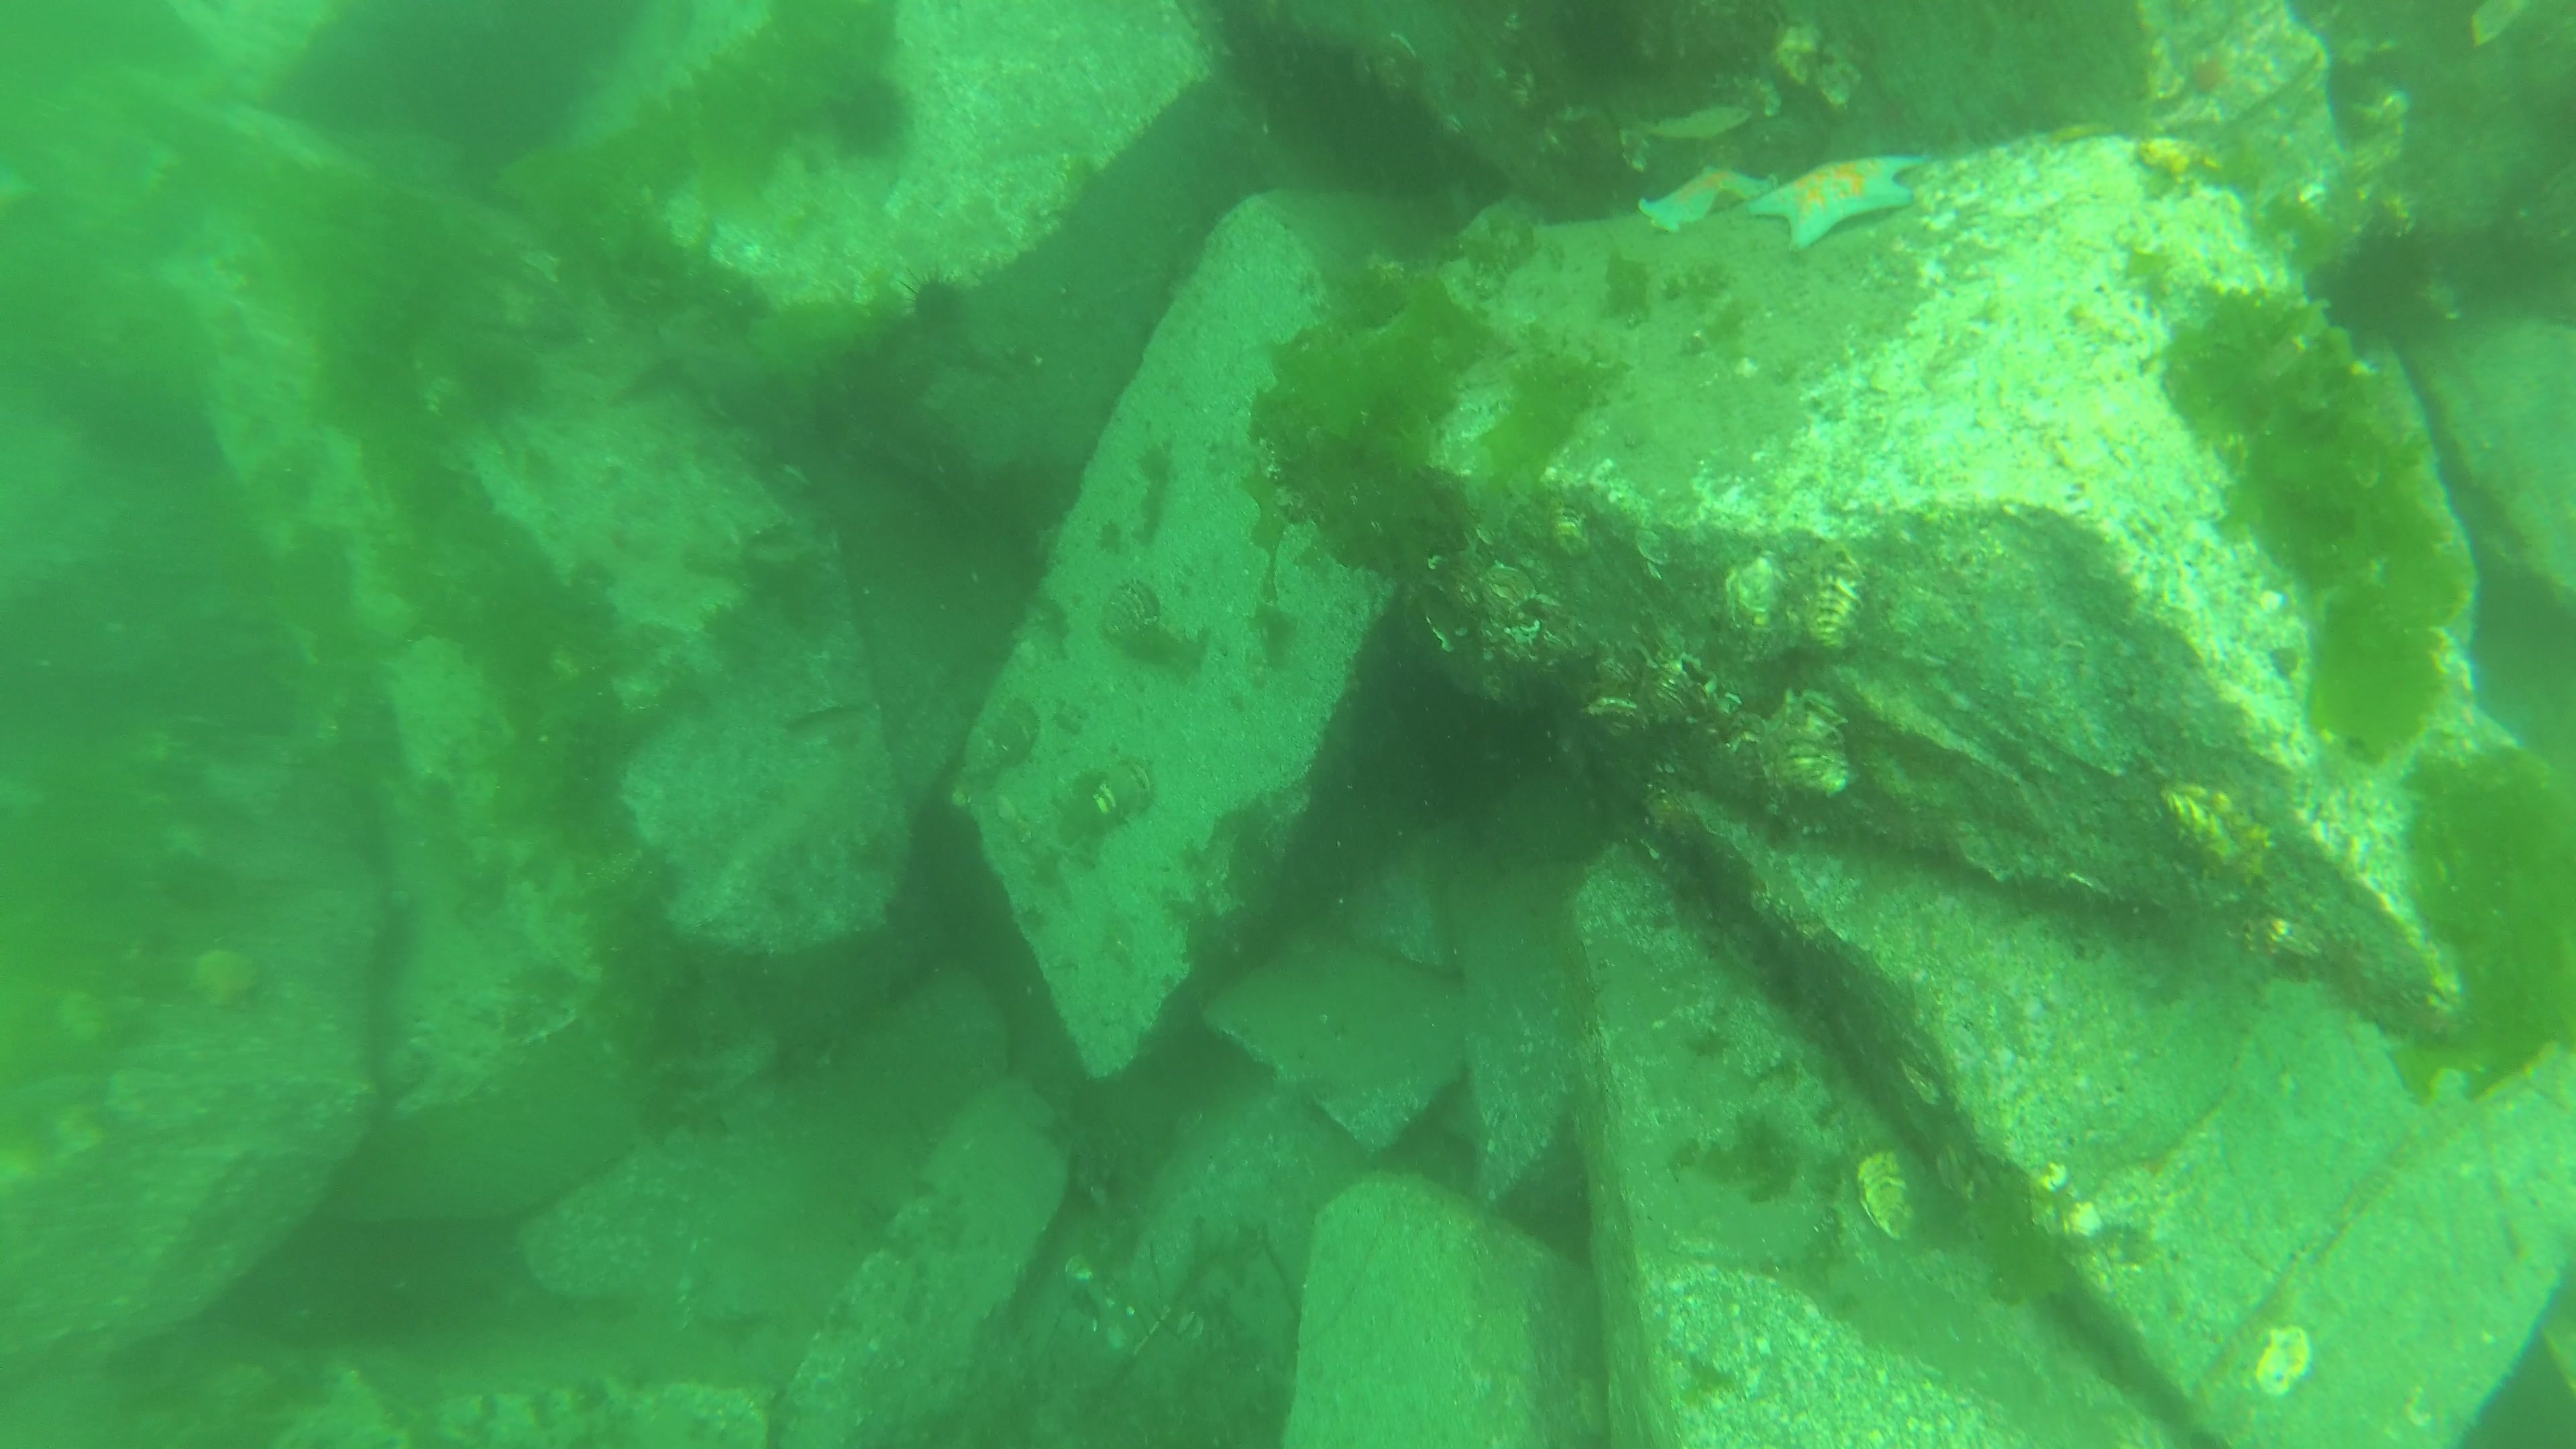echinus: (828, 76, 920, 165), (908, 264, 975, 347)
starfish: (1752, 147, 1925, 248), (1628, 157, 1782, 232)
